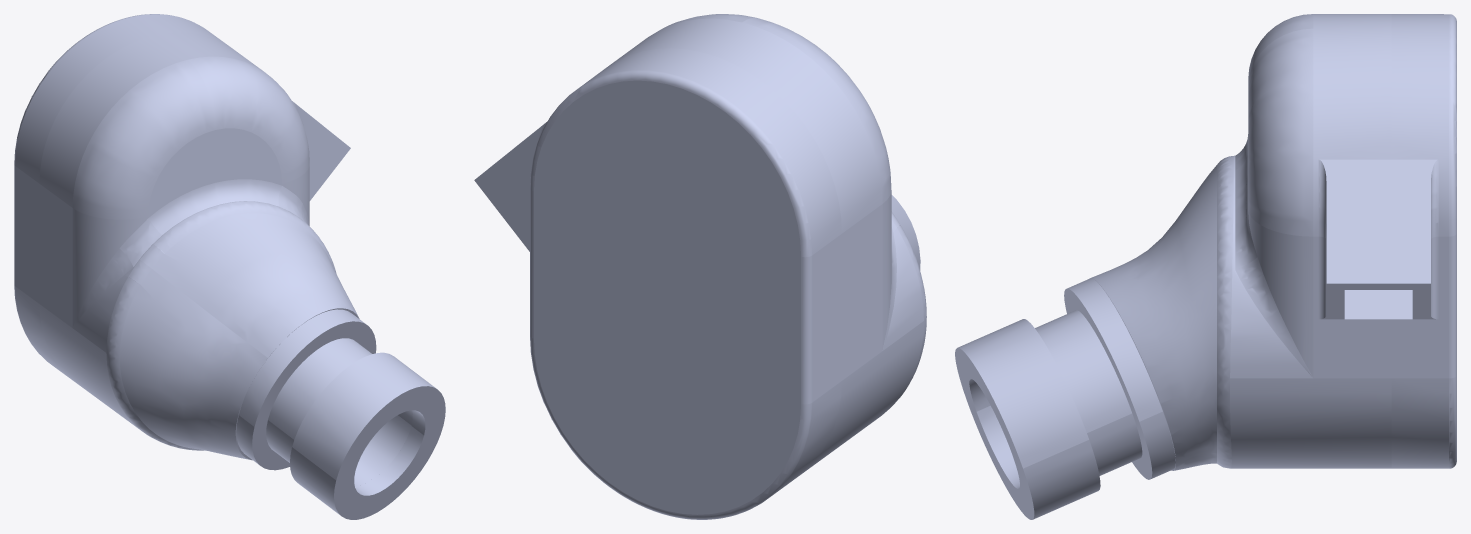
Rendered from IEM Assembly.glb.
3 renders of one model, left to right at view 1: azimuth 30°, elevation 25°; view 2: azimuth 150°, elevation 25°; view 3: azimuth 270°, elevation 25°, orthographic. The views are drawn at different scales.
Parts seen in each view (by area): view 1: Body1, NozzleTop1, Nozzle1, Faceplate1; view 2: Faceplate1, Body1, NozzleTop1; view 3: Body1, Faceplate1, NozzleTop1, Nozzle1.
Boxes of the visible parts, x1,y1,x2,y2 form: Body1: (39,32,359,460); NozzleTop1: (290,352,445,519); Nozzle1: (236,309,412,486); Faceplate1: (14,14,229,377); Faceplate1: (474,48,841,519); Body1: (608,14,926,474); NozzleTop1: (891,195,920,270); Body1: (1089,14,1412,470); Faceplate1: (1391,14,1456,468); NozzleTop1: (955,319,1100,519); Nozzle1: (1035,278,1175,479).
Bounding box in the file's own units: 0.0148 × 0.0189 × 0.0192.
